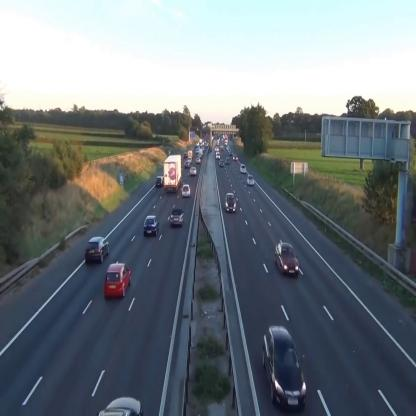car: (261, 326, 307, 409), (105, 262, 131, 299), (275, 242, 299, 276), (85, 235, 110, 264), (144, 216, 160, 236), (170, 208, 184, 227), (226, 193, 236, 211), (182, 184, 191, 197), (156, 176, 163, 186), (189, 166, 196, 176), (248, 174, 254, 184), (184, 160, 190, 168), (240, 164, 245, 172), (219, 159, 224, 166), (225, 157, 230, 164), (233, 154, 238, 160), (196, 157, 200, 164)
lorry: (163, 155, 182, 192)
